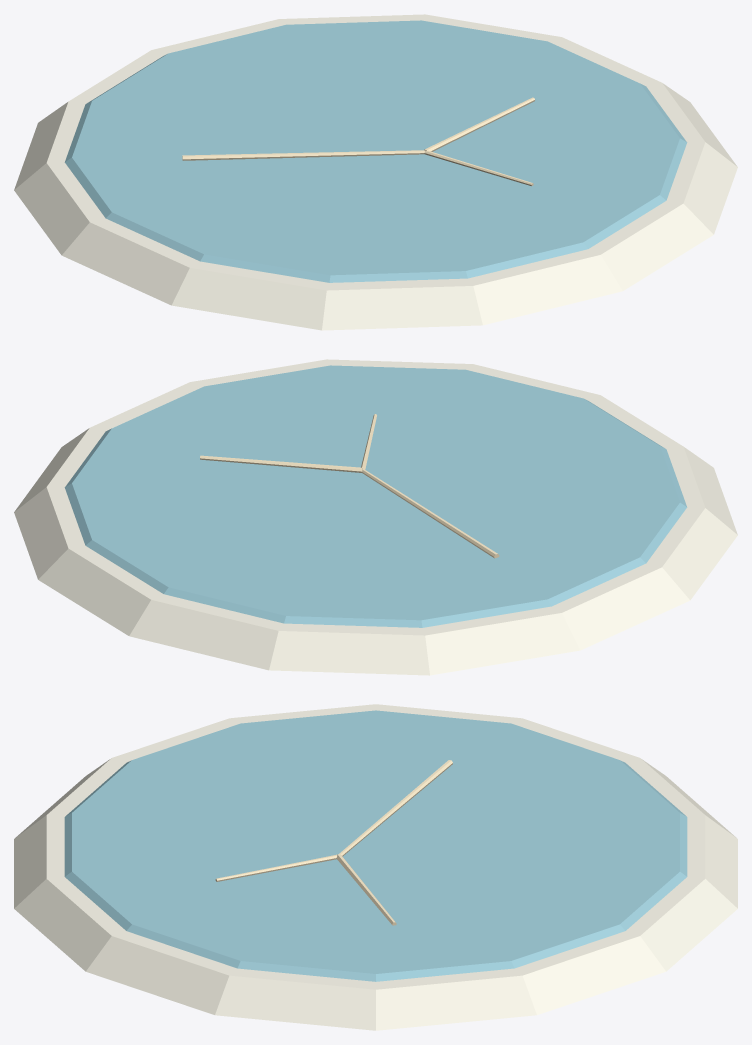
File: turning-seasons-frozen-pond-c2c89609__2168.glb
3 renders of one model, top to bottom at view 1: azimuth 30°, elevation 25°; view 2: azimuth 150°, elevation 25°; view 3: azimuth 270°, elevation 25°, orthographic. The views are drawn at different scales.
Parts seen in each view (by area): view 1: frozen-pond; view 2: frozen-pond; view 3: frozen-pond.
Boxes of the visible parts, x1,y1,x2,y2 form: frozen-pond: (14, 14, 737, 330); frozen-pond: (14, 359, 737, 675); frozen-pond: (14, 704, 737, 1030).
Size of the model in its own units: 2 by 0.1051 by 1.95.
